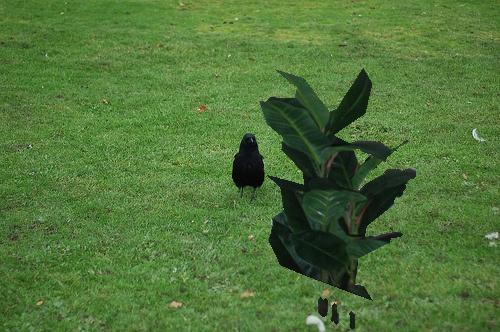tampered: (260, 69, 416, 329)
